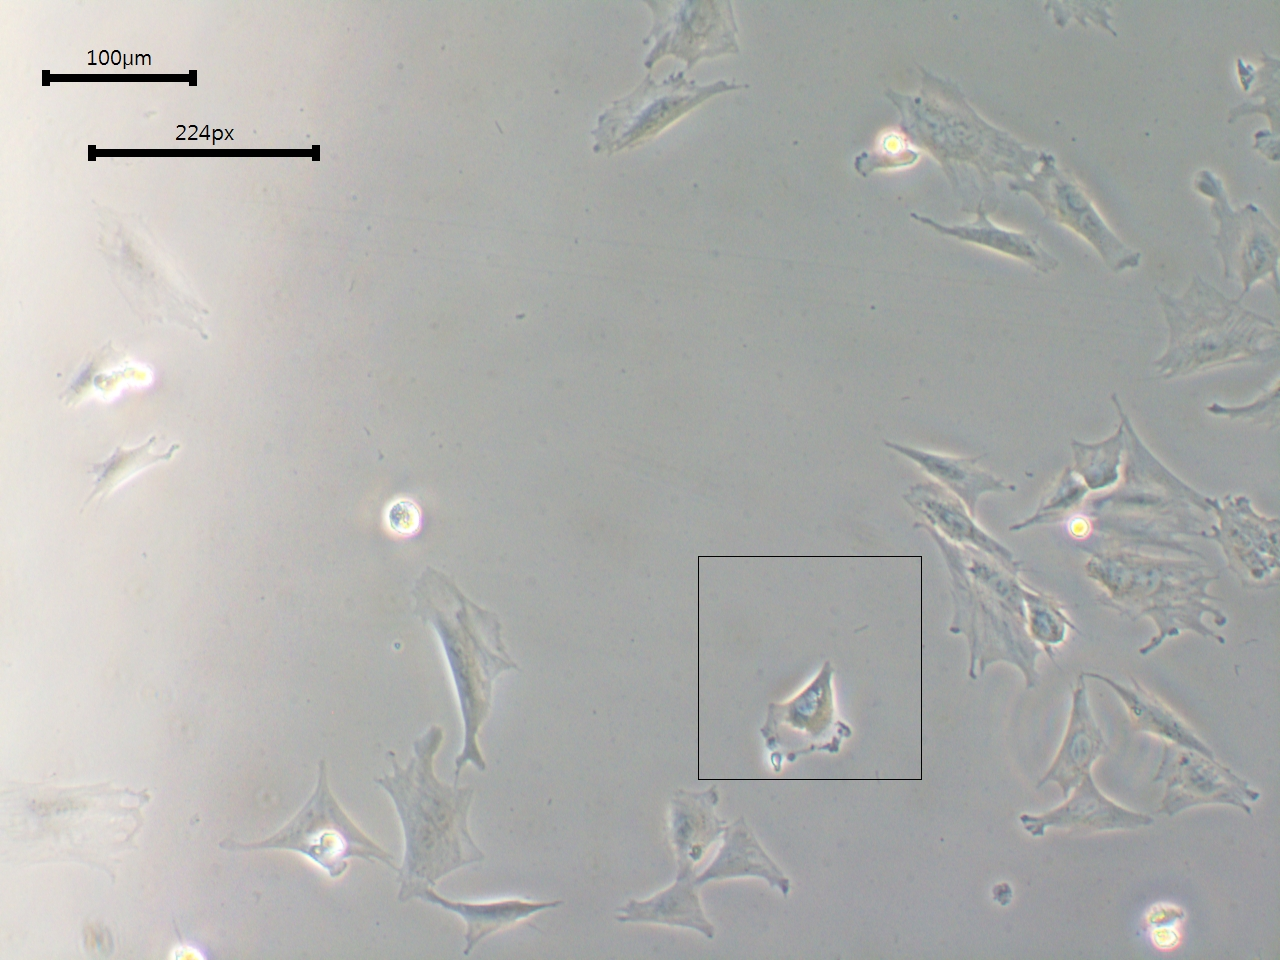medium-polygonal: (406, 564, 514, 767), (221, 757, 390, 877), (579, 70, 748, 170), (911, 209, 1052, 277), (1051, 677, 1104, 793)
medium-spread: (748, 656, 869, 774)
small-polygonal: (1162, 746, 1253, 821)
small-spread: (659, 787, 727, 873), (849, 145, 920, 184)
